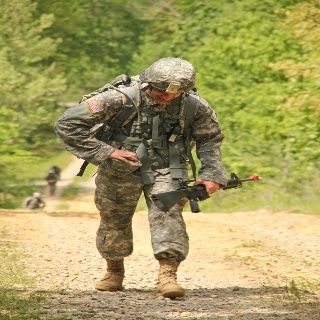rifle: (151, 172, 264, 214)
